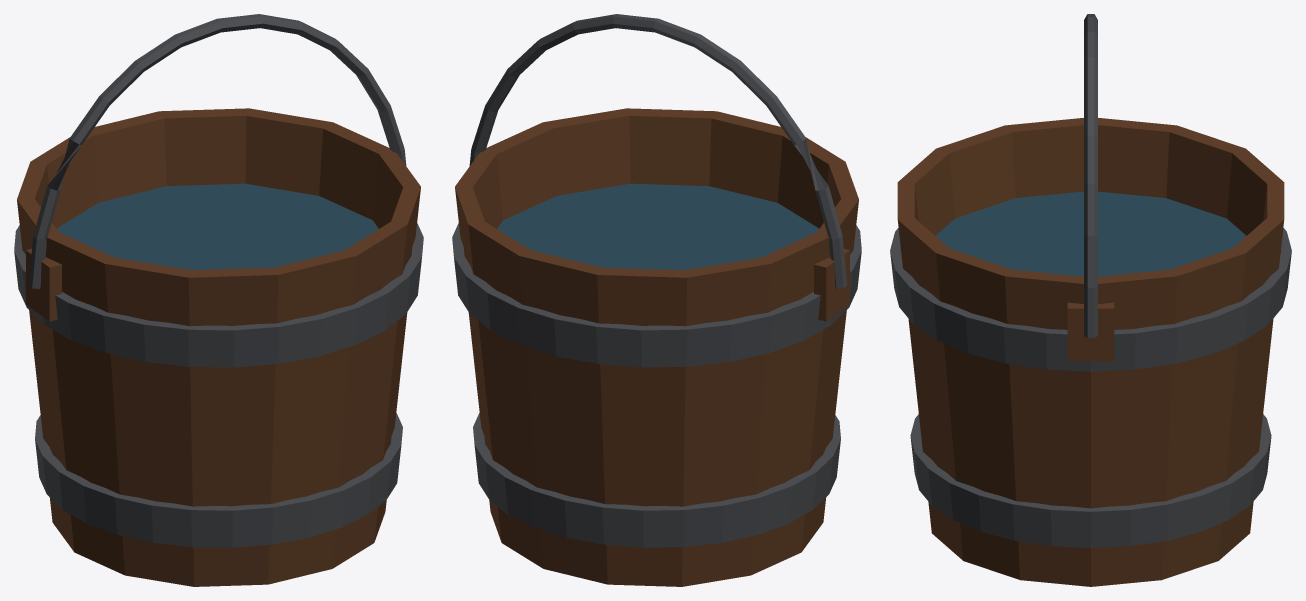
The model's file is water-bucket_final.glb.
The picture shows the model from 3 angles, left to right: view 1: azimuth 30°, elevation 25°; view 2: azimuth 150°, elevation 25°; view 3: azimuth 270°, elevation 25°; orthographic projection. The views are drawn at different scales.
Visible parts, largest first — view 1: SM_WaterBucket_Body, SM_WaterBucket_Water, SM_WaterBucket_Hoop_02, SM_WaterBucket_Hoop_01, SM_WaterBucket_Handle, SM_WaterBucket_Ear_02; view 2: SM_WaterBucket_Body, SM_WaterBucket_Water, SM_WaterBucket_Hoop_02, SM_WaterBucket_Hoop_01, SM_WaterBucket_Handle, SM_WaterBucket_Ear_02; view 3: SM_WaterBucket_Body, SM_WaterBucket_Water, SM_WaterBucket_Hoop_02, SM_WaterBucket_Hoop_01, SM_WaterBucket_Handle, SM_WaterBucket_Ear_01.
Boxes of the visible parts, x1,y1,x2,y2 form: SM_WaterBucket_Body: [17, 108, 420, 586]; SM_WaterBucket_Water: [57, 183, 378, 270]; SM_WaterBucket_Hoop_02: [14, 223, 423, 367]; SM_WaterBucket_Hoop_01: [35, 413, 402, 547]; SM_WaterBucket_Handle: [28, 14, 406, 288]; SM_WaterBucket_Ear_02: [26, 248, 61, 321]; SM_WaterBucket_Body: [455, 108, 858, 586]; SM_WaterBucket_Water: [497, 183, 818, 270]; SM_WaterBucket_Hoop_02: [452, 223, 861, 367]; SM_WaterBucket_Hoop_01: [473, 413, 840, 547]; SM_WaterBucket_Handle: [469, 14, 847, 288]; SM_WaterBucket_Ear_02: [814, 248, 849, 321]; SM_WaterBucket_Body: [897, 118, 1284, 586]; SM_WaterBucket_Water: [935, 191, 1246, 276]; SM_WaterBucket_Hoop_02: [890, 228, 1291, 371]; SM_WaterBucket_Hoop_01: [910, 414, 1271, 547]; SM_WaterBucket_Handle: [1084, 14, 1097, 337]; SM_WaterBucket_Ear_01: [1067, 302, 1114, 361].
Bounding box in the file's own units: 0.3653 × 0.4602 × 0.3446.
